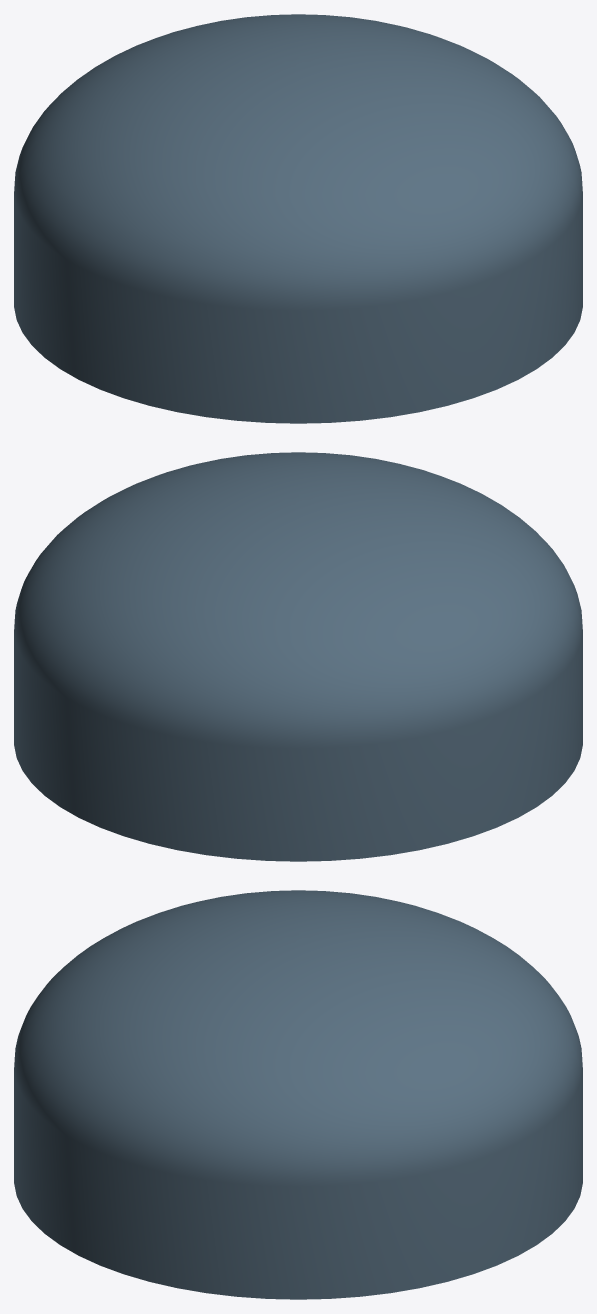
Rendered from zaglushka-32x3-H15.glb.
3 renders of one model, top to bottom at view 1: azimuth 30°, elevation 25°; view 2: azimuth 150°, elevation 25°; view 3: azimuth 270°, elevation 25°, orthographic.
Parts seen in each view (by area): view 1: Open CASCADE STEP translator 7.9 2; view 2: Open CASCADE STEP translator 7.9 2; view 3: Open CASCADE STEP translator 7.9 2.
Part boxes in pixels (<box>): Open CASCADE STEP translator 7.9 2: <box>14,14,582,423</box>; Open CASCADE STEP translator 7.9 2: <box>14,452,582,861</box>; Open CASCADE STEP translator 7.9 2: <box>14,890,582,1299</box>.
Size of the model in its own units: 31.98 by 15 by 31.99.
